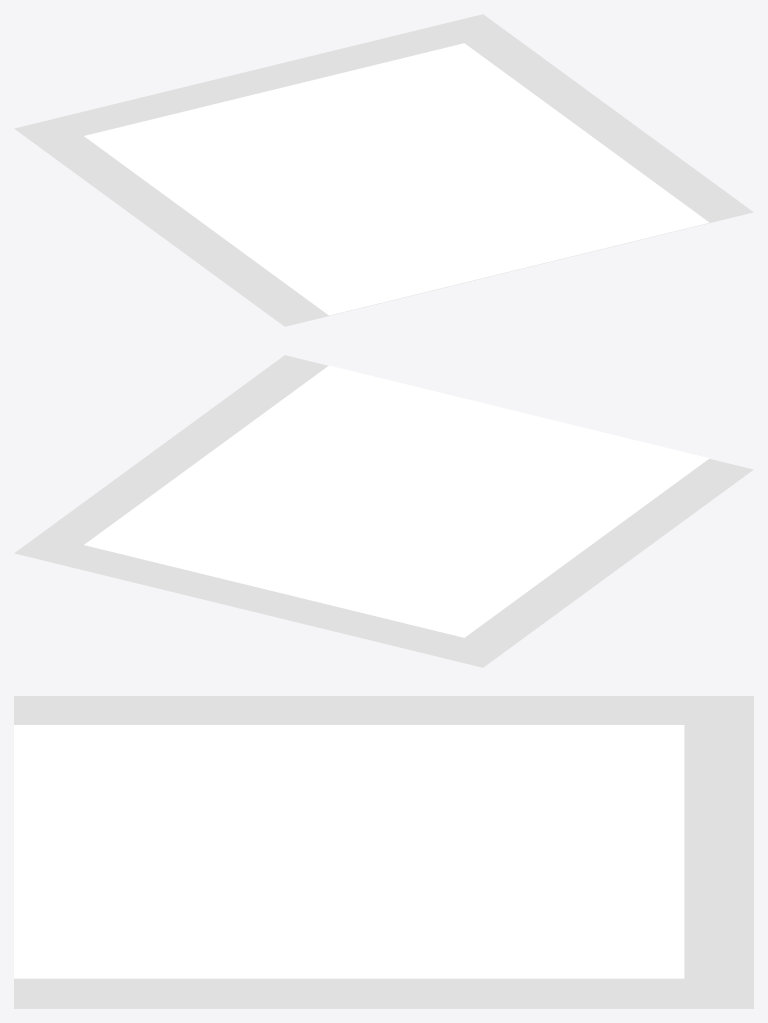
Rendered from tile_for_home_1x1.128.glb.
3 renders of one model, top to bottom at view 1: azimuth 30°, elevation 25°; view 2: azimuth 150°, elevation 25°; view 3: azimuth 270°, elevation 25°, orthographic. The views are drawn at different scales.
Visible parts, largest first — view 1: tile_for_home_1x1.128(Clone); view 2: tile_for_home_1x1.128(Clone); view 3: tile_for_home_1x1.128(Clone).
Part boxes in pixels (x1,y1,x2,y2): tile_for_home_1x1.128(Clone): (14,14,753,326); tile_for_home_1x1.128(Clone): (14,355,753,667); tile_for_home_1x1.128(Clone): (14,696,753,1008).
Size of the model in its own units: 8 by 0.00736 by 8.
Materials: 1 (1 with a texture image).
